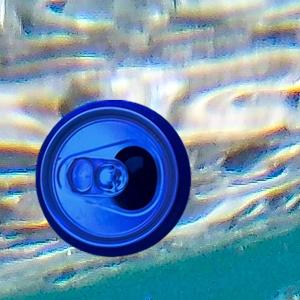can: (35, 97, 195, 258)
